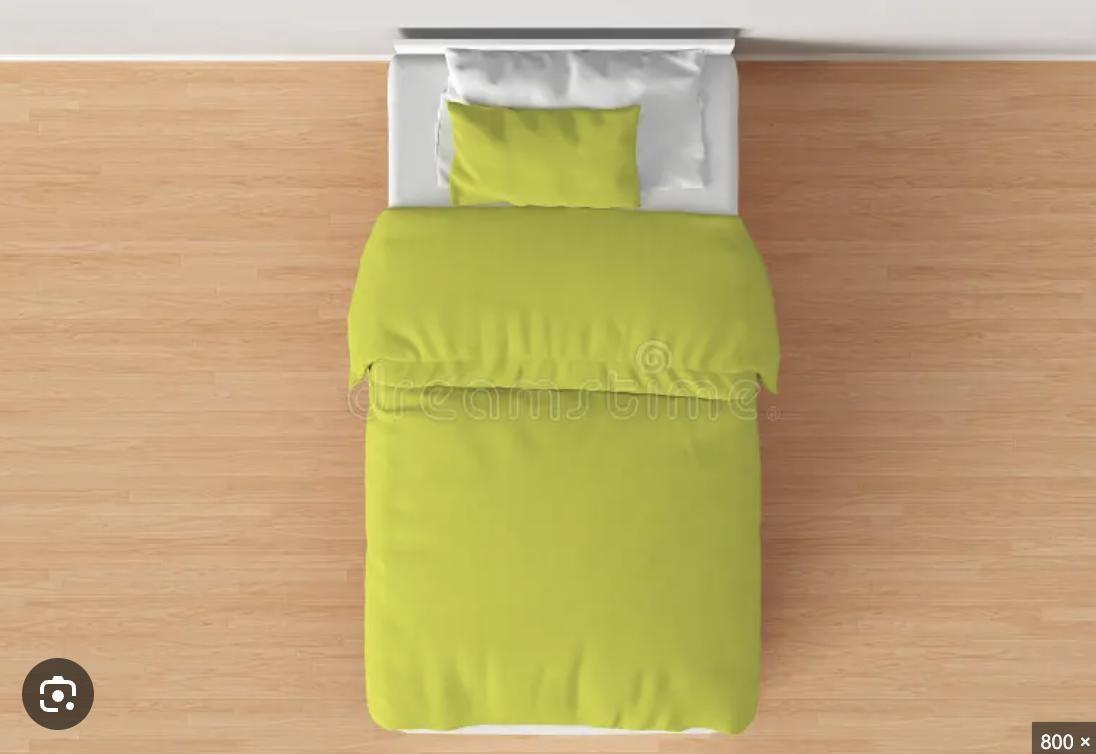Bed-Mattress: (367, 21, 764, 744)
